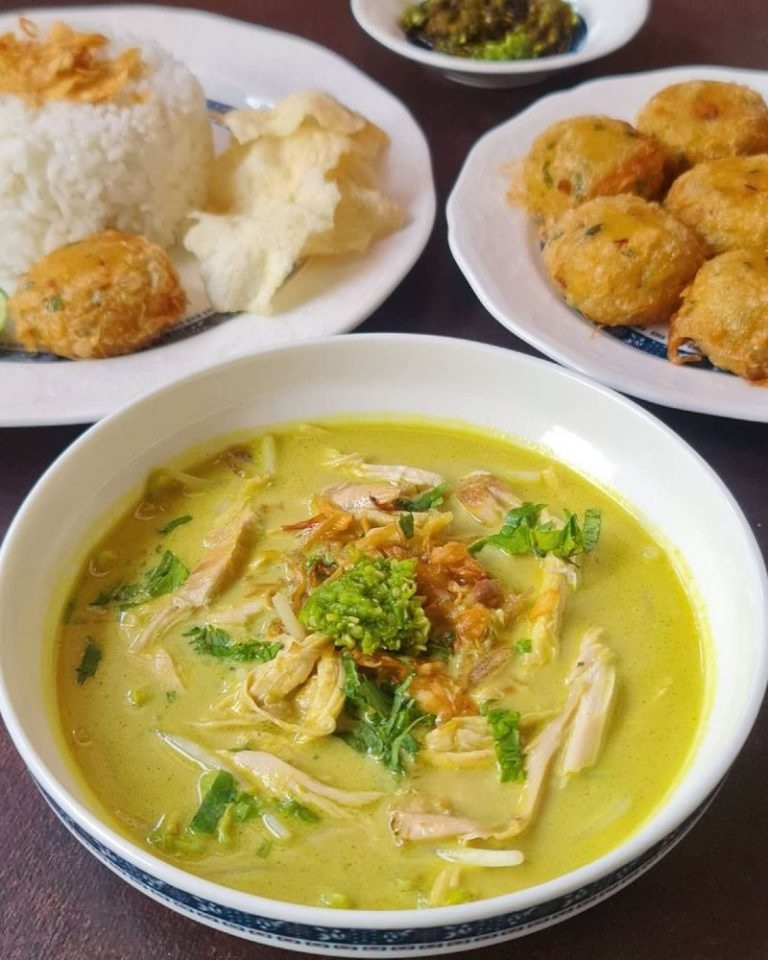soto: (24, 346, 721, 910)
